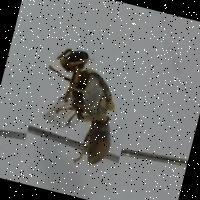Oriental-fruit-fly: (18, 31, 146, 194)
